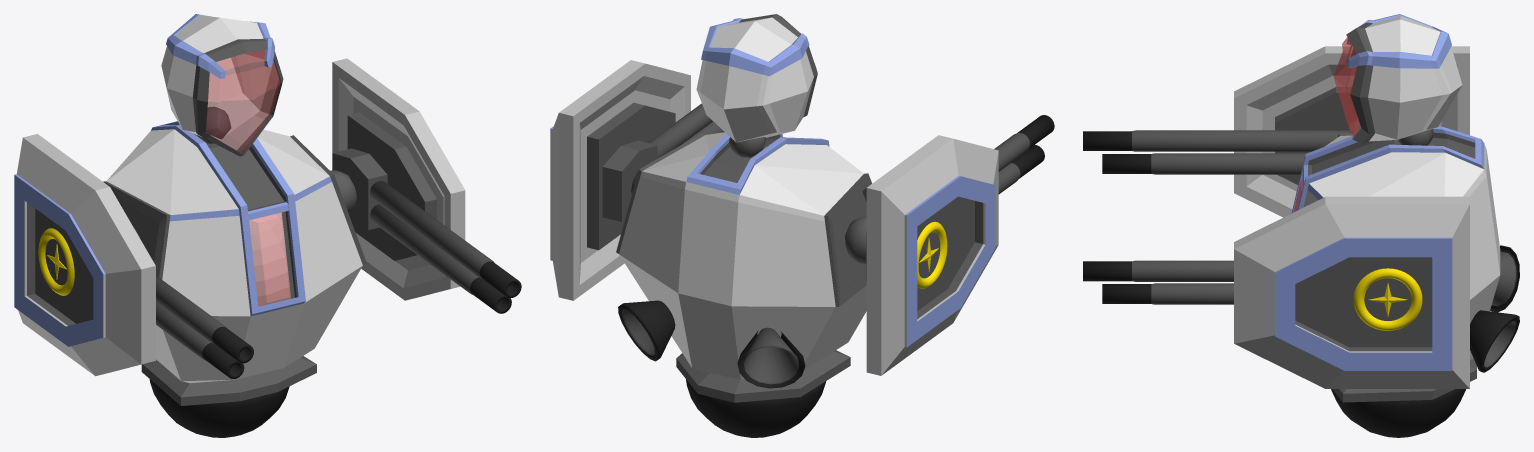
The model's file is MoveTarget.fbx.
The picture shows the model from 3 angles, left to right: view 1: azimuth 30°, elevation 25°; view 2: azimuth 150°, elevation 25°; view 3: azimuth 270°, elevation 25°; orthographic projection.
Visible parts, largest first — view 1: Body, Head; view 2: Body, Head; view 3: Body, Head.
Boxes of the visible parts, <box> form: Body: <box>14,58,521,437</box>; Head: <box>161,14,283,156</box>; Body: <box>550,60,1054,437</box>; Head: <box>696,14,817,142</box>; Body: <box>1083,46,1519,437</box>; Head: <box>1334,14,1462,143</box>.
Bounding box in the file's own units: 1.05 × 1.16 × 1.11.
